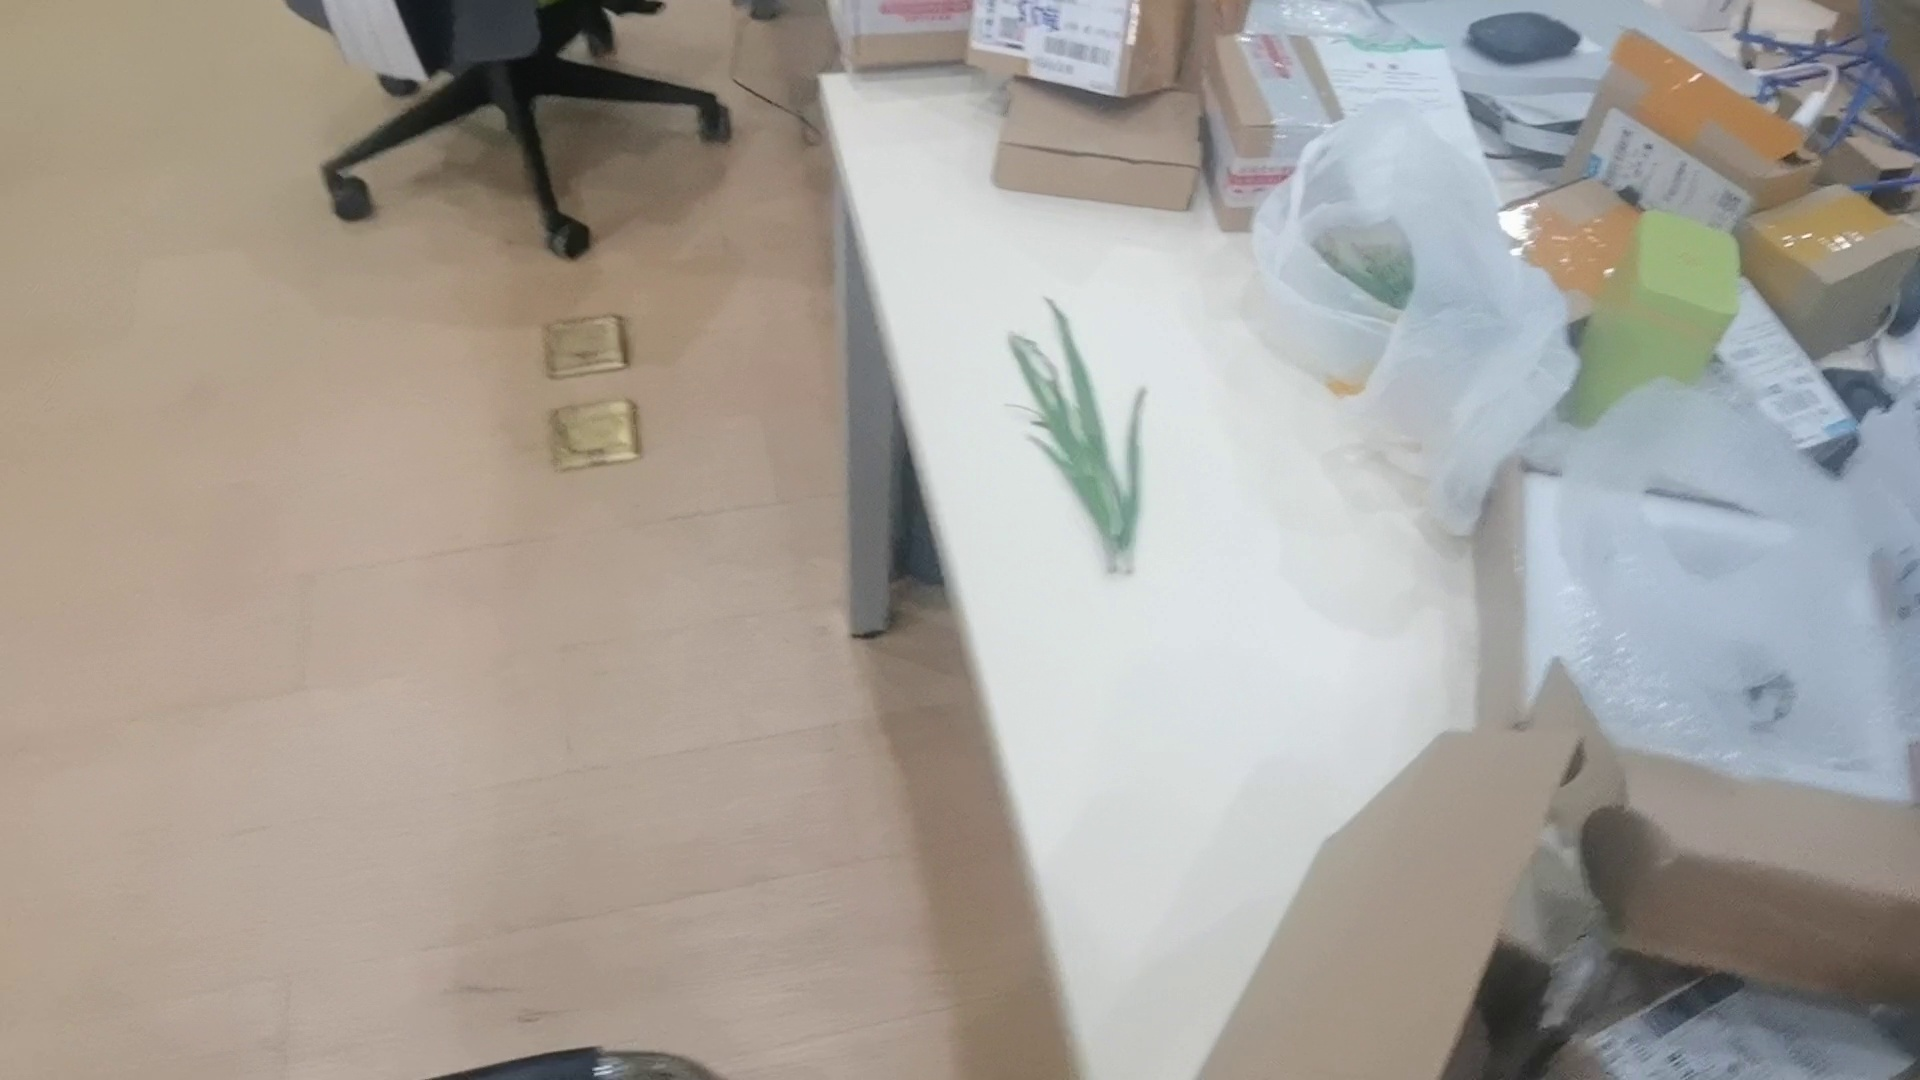chives: (1005, 287, 1166, 581)
